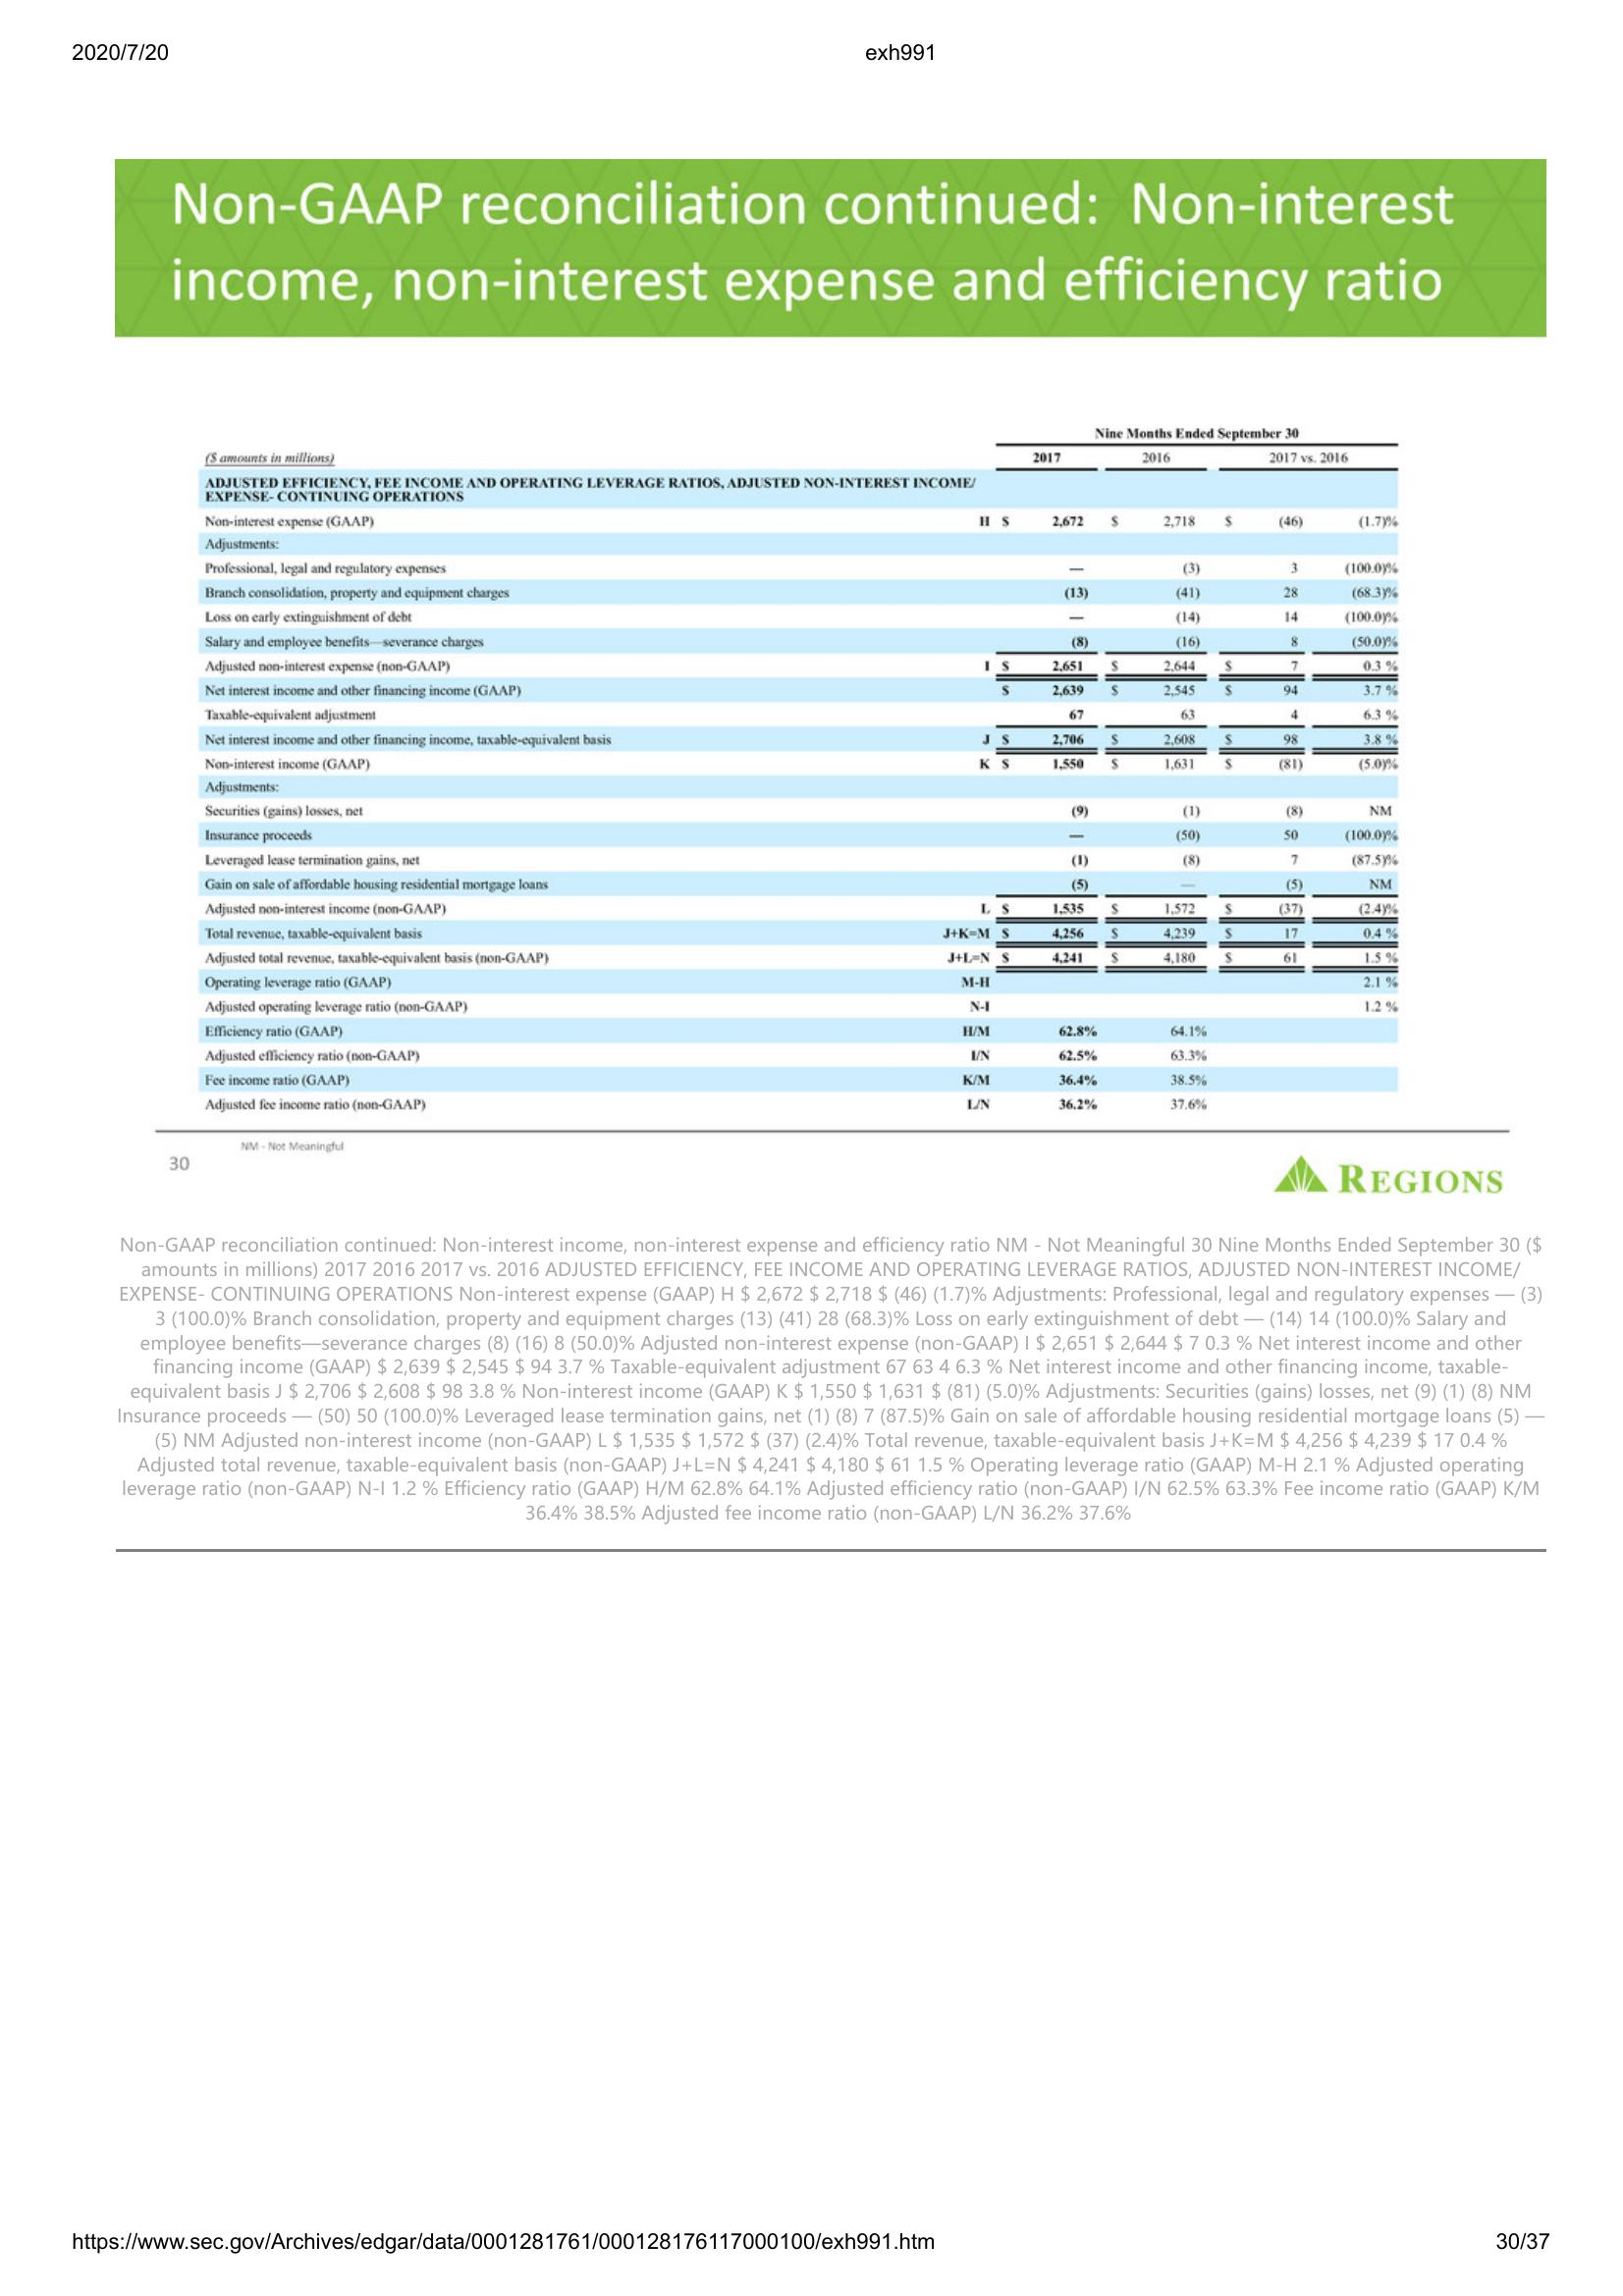table: (197, 421, 1403, 1123)
